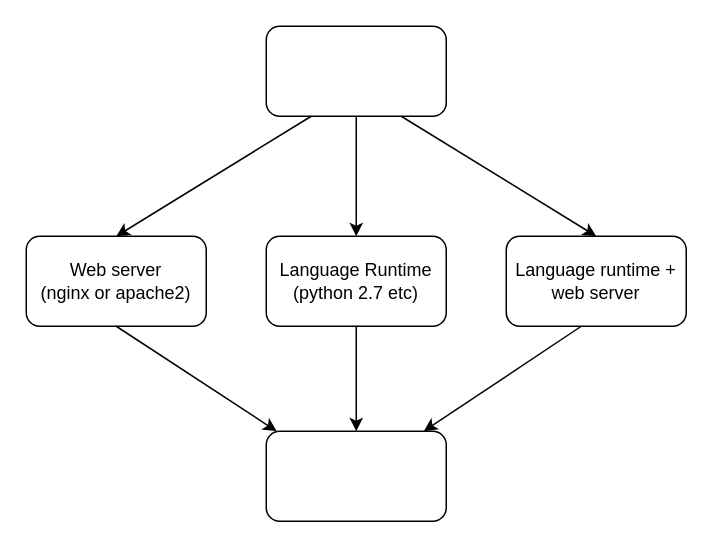
Image size: 713x548. Some labels were removed from this diagram. The centre of each missing label's shape, as x and y in pixels:
"Application layer" goes at point (355, 475).
"Base Layer" goes at point (355, 70).
